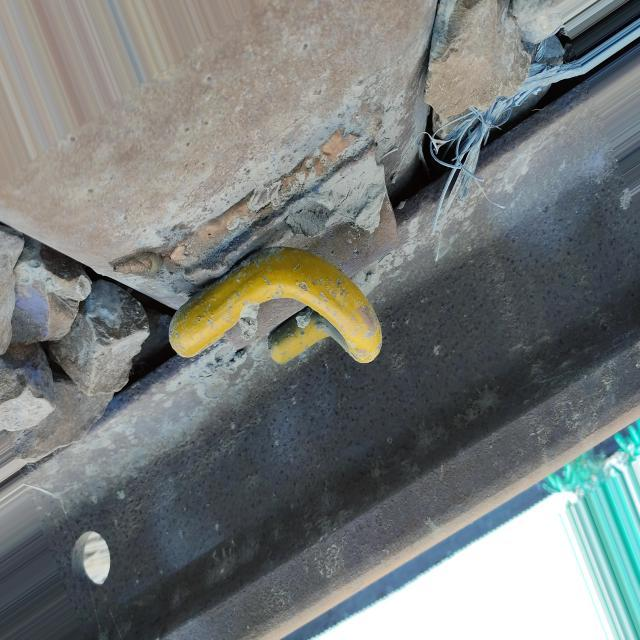Good Fasteners: (169, 247, 382, 363)
